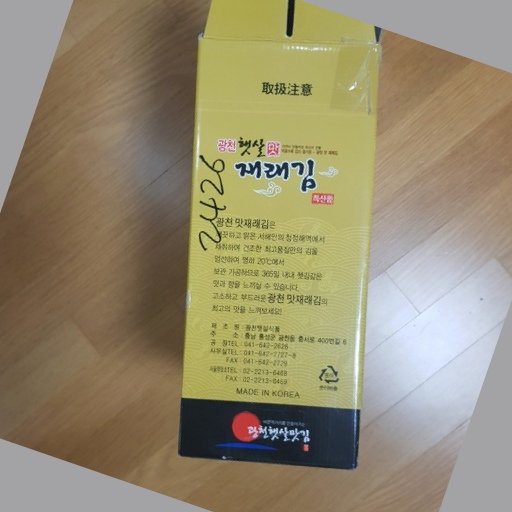Paper_0: (171, 1, 387, 481)
